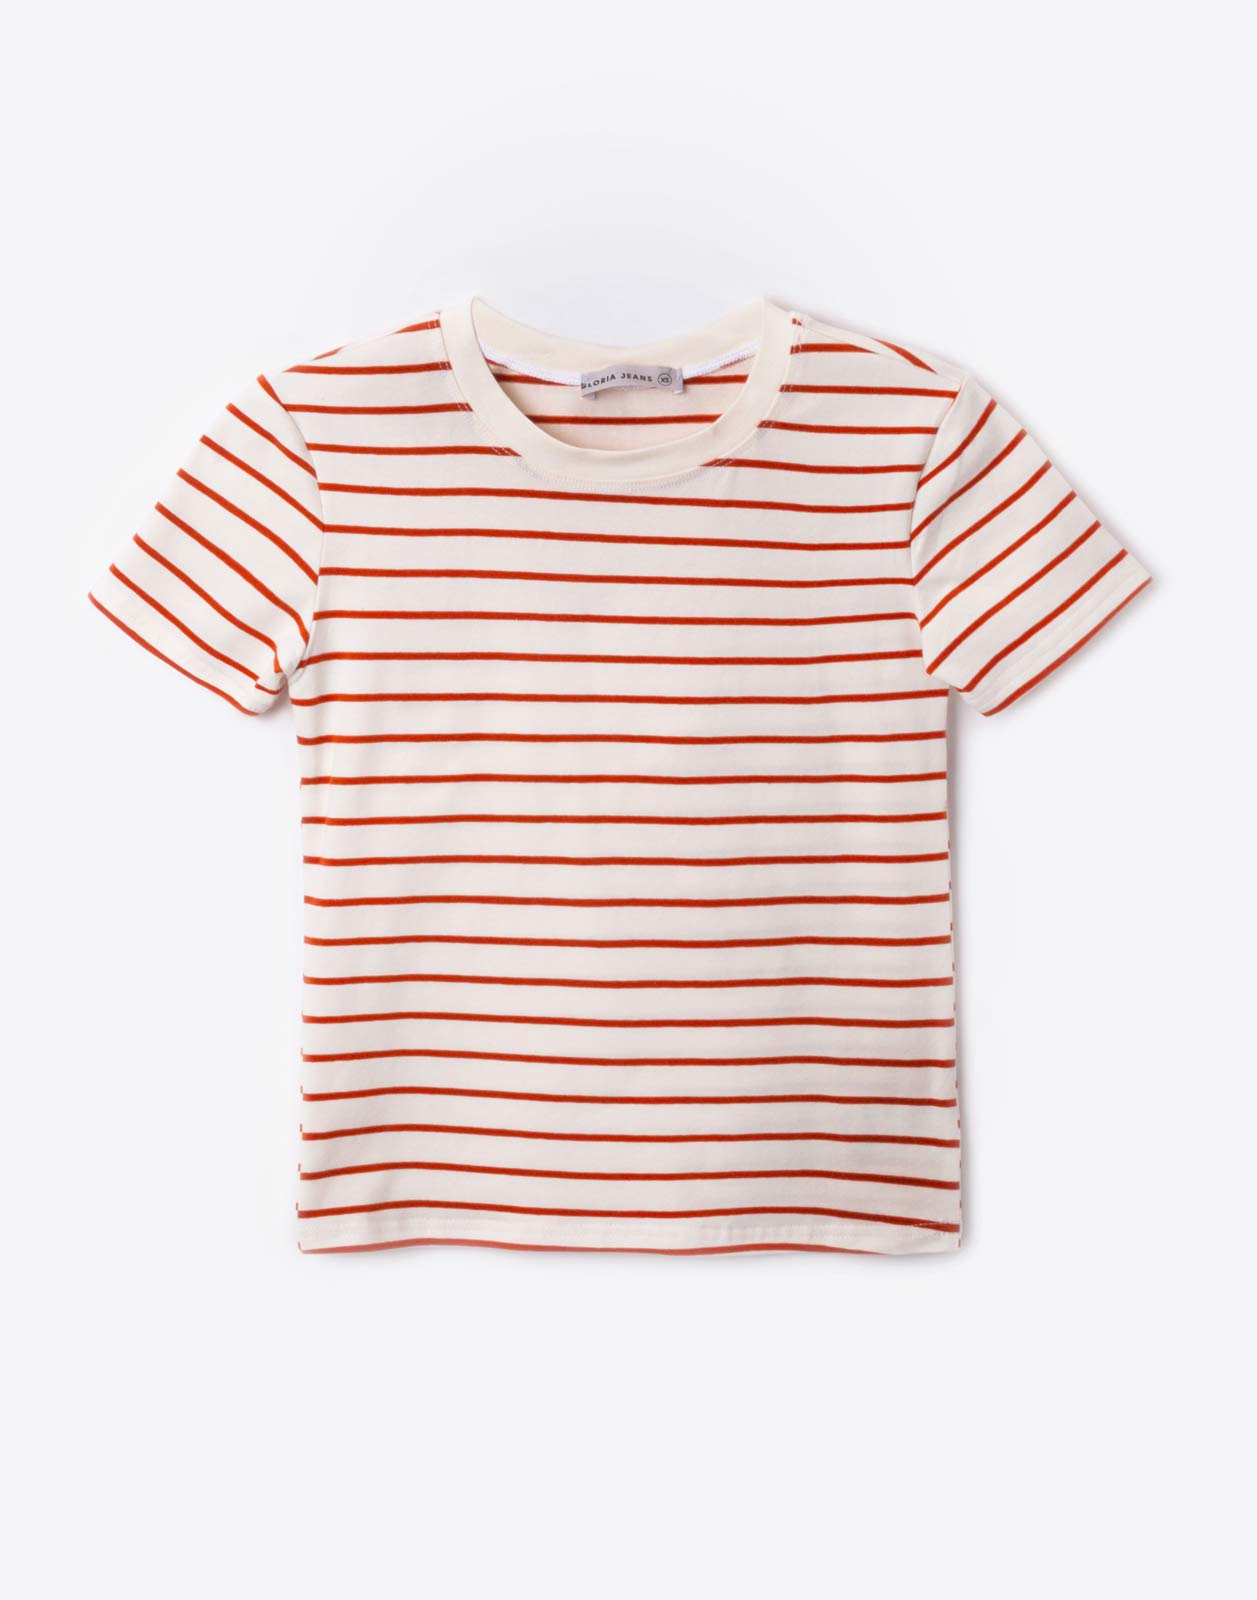striped: (71, 275, 1182, 1277)
